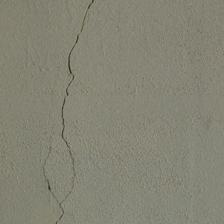Crack: (22, 0, 101, 167), (10, 0, 66, 88), (170, 54, 187, 93)
